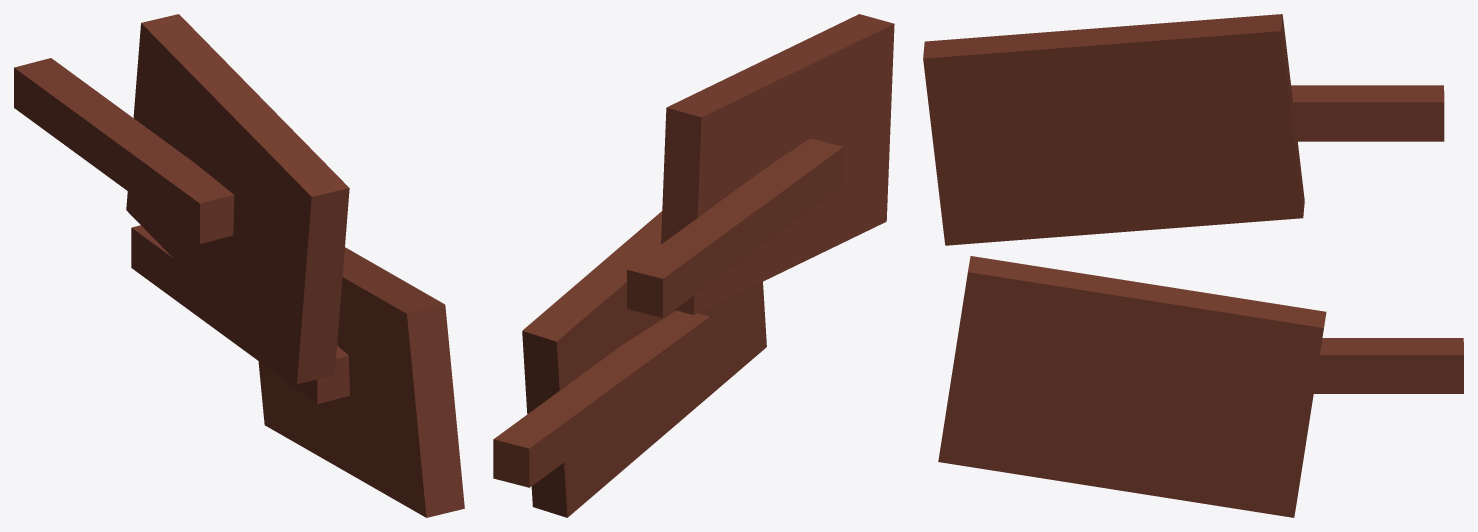
File: lib_exitsigns.fbx
3 views of the same model, side by side, from view 1: azimuth 30°, elevation 25°; view 2: azimuth 150°, elevation 25°; view 3: azimuth 270°, elevation 25° (orthographic). The views are drawn at different scales.
Parts seen in each view (by area): view 1: Plane.005; view 2: Plane.005; view 3: Plane.005.
Part boxes in pixels (left/top/right/bottom): Plane.005: left=14, top=14, right=464, bottom=517; Plane.005: left=493, top=14, right=894, bottom=517; Plane.005: left=923, top=14, right=1463, bottom=517.
Size of the model in its own units: 492 by 979 by 1125.
